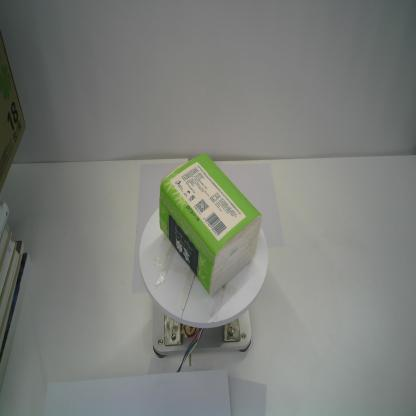Tissue: (158, 152, 263, 298)
